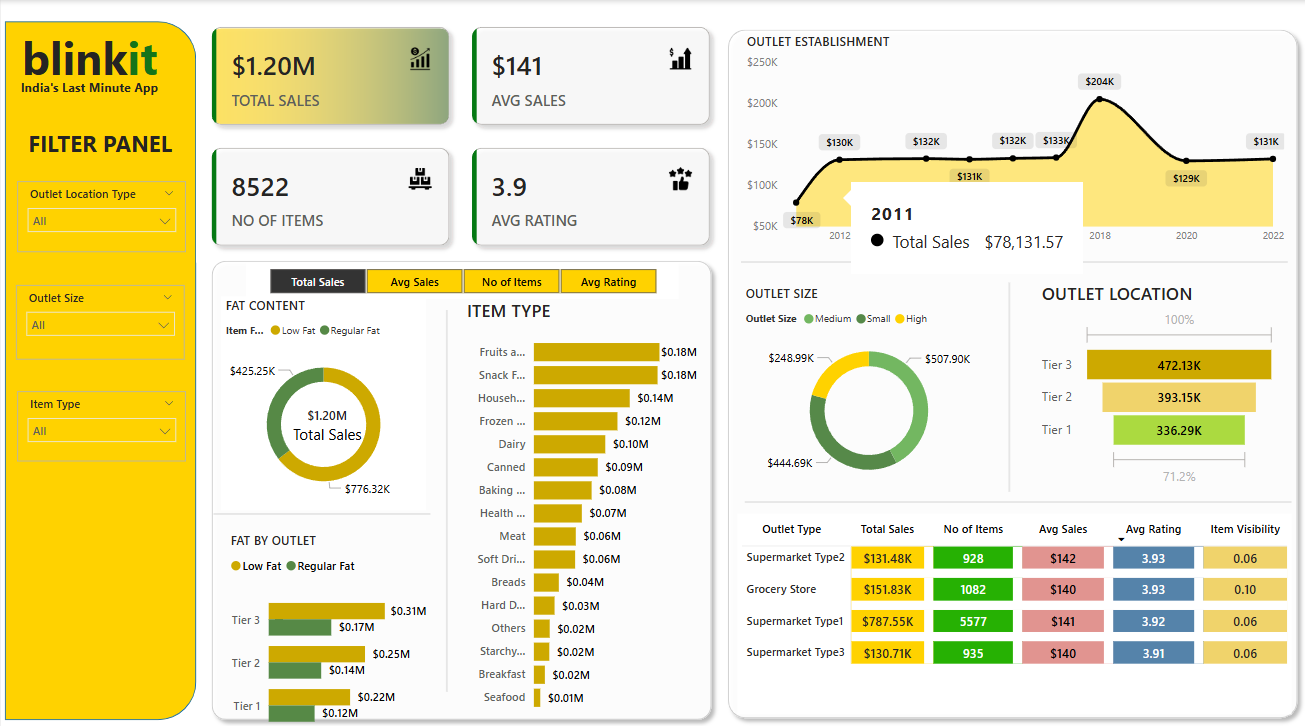

The page's visual inventory and layout, read from the dashboard file:
{"tool":"powerbi","page":{"name":"Page 1","canvas":[1400,800],"ordinal":0},"visuals":[{"type":"shape","box":[4.1,23.1,205.4,749.6],"z":0},{"type":"textbox","box":[16.3,78.9,170,43.5],"z":1000},{"type":"textbox","box":[17.7,24.5,180.9,81.6],"z":2000},{"type":"cardVisual","fields":{"Data":["BlinkIT Grocery Data.Total Sales","BlinkIT Grocery Data.Avg Sales","BlinkIT Grocery Data.No of Items","BlinkIT Grocery Data.Avg Rating"]},"box":[209.5,12.2,570,269.4],"z":3000},{"type":"shape","box":[217.7,270.7,553.7,510.1],"z":4000},{"type":"donutChart","title":"FAT CONTENT","fields":{"Y":["BlinkIT Grocery Data.Total Sales"],"Category":["BlinkIT Grocery Data.Item Fat Content"]},"box":[235.3,318.3,220.4,229.9],"z":5000},{"type":"slicer","fields":{"Values":["Metrics 2.Metrics"]},"box":[262.5,281.6,463.9,39.5],"z":6000},{"type":"cardVisual","fields":{"Data":["BlinkIT Grocery Data.Total Sales"]},"box":[273.4,419,153.7,66.7],"z":7000},{"type":"clusteredBarChart","title":"FAT BY OUTLET","fields":{"Y":["BlinkIT Grocery Data.Total Sales"],"Category":["BlinkIT Grocery Data.Outlet Location Type"],"Series":["BlinkIT Grocery Data.Item Fat Content"]},"box":[240.8,570,220.4,229.9],"z":8000},{"type":"shape","box":[228.5,536,232.6,29.9],"z":9000},{"type":"shape","box":[461.2,331.9,34,409.5],"z":10000},{"type":"barChart","title":"ITEM TYPE","fields":{"Y":["BlinkIT Grocery Data.Total Sales"],"Category":["BlinkIT Grocery Data.Item Type"]},"box":[495.2,321,257.1,453],"z":11000},{"type":"shape","box":[771.3,23.1,628.5,756.4],"z":12000},{"type":"lineChart","title":"OUTLET ESTABLISHMENT","fields":{"Y":["BlinkIT Grocery Data.Total Sales"],"Category":["BlinkIT Grocery Data.Outlet Establishment Year"]},"box":[794.4,35.4,586.3,235.3],"z":13000},{"type":"shape","box":[793.1,270.7,586.3,20.4],"z":14000},{"type":"donutChart","title":"OUTLET SIZE","fields":{"Y":["BlinkIT Grocery Data.Total Sales"],"Category":["BlinkIT Grocery Data.Outlet Size"]},"box":[793.1,306.1,274.8,224.5],"z":15000},{"type":"shape","box":[1063.8,303.4,34,224.5],"z":16000},{"type":"funnel","title":"OUTLET LOCATION","fields":{"Y":["Sum(BlinkIT Grocery Data.Sales)"],"Category":["BlinkIT Grocery Data.Outlet Location Type"]},"box":[1111.4,302,261.2,224.5],"z":17000},{"type":"shape","box":[797.2,527.8,586.3,20.4],"z":18000},{"type":"pivotTable","fields":{"Rows":["BlinkIT Grocery Data.Outlet Type"],"Values":["BlinkIT Grocery Data.Total Sales","BlinkIT Grocery Data.No of Items","BlinkIT Grocery Data.Avg Sales","BlinkIT Grocery Data.Avg Rating","Avg(BlinkIT Grocery Data.Item Visibility)"]},"box":[789,550.9,594.5,214.9],"z":19000},{"type":"slicer","fields":{"Values":["BlinkIT Grocery Data.Outlet Location Type"]},"box":[17.7,194.5,180.9,76.2],"z":20000},{"type":"slicer","fields":{"Values":["BlinkIT Grocery Data.Outlet Size"]},"box":[16.3,306.1,180.9,80.3],"z":21000},{"type":"slicer","fields":{"Values":["BlinkIT Grocery Data.Item Type"]},"box":[17.7,419,180.9,74.8],"z":22000},{"type":"textbox","box":[16.3,133.3,180.9,51.7],"z":23000}]}

Visuals, with their boxes in screenshot pixels (x1, y1, x2, y2), scaled from the page's 1400x800 canvas onto the 1305x726 screenshot:
shape: 4/21/195/701
textbox: 15/72/174/111
textbox: 16/22/185/96
cardVisual - BlinkIT Grocery Data.Total Sales x BlinkIT Grocery Data.Avg Sales: 195/11/727/256
shape: 203/246/719/709
"FAT CONTENT" donutChart: 219/289/425/497
slicer - Metrics 2.Metrics: 245/256/677/291
cardVisual - BlinkIT Grocery Data.Total Sales: 255/380/398/441
"FAT BY OUTLET" clusteredBarChart: 224/517/430/725
shape: 213/486/430/514
shape: 430/301/462/673
"ITEM TYPE" barChart: 462/291/701/702
shape: 719/21/1304/707
"OUTLET ESTABLISHMENT" lineChart: 740/32/1287/246
shape: 739/246/1286/264
"OUTLET SIZE" donutChart: 739/278/995/482
shape: 992/275/1023/479
"OUTLET LOCATION" funnel: 1036/274/1279/478
shape: 743/479/1290/497
pivotTable - BlinkIT Grocery Data.Outlet Type x BlinkIT Grocery Data.Total Sales: 735/500/1290/695
slicer - BlinkIT Grocery Data.Outlet Location Type: 16/177/185/246
slicer - BlinkIT Grocery Data.Outlet Size: 15/278/184/351
slicer - BlinkIT Grocery Data.Item Type: 16/380/185/448
textbox: 15/121/184/168
